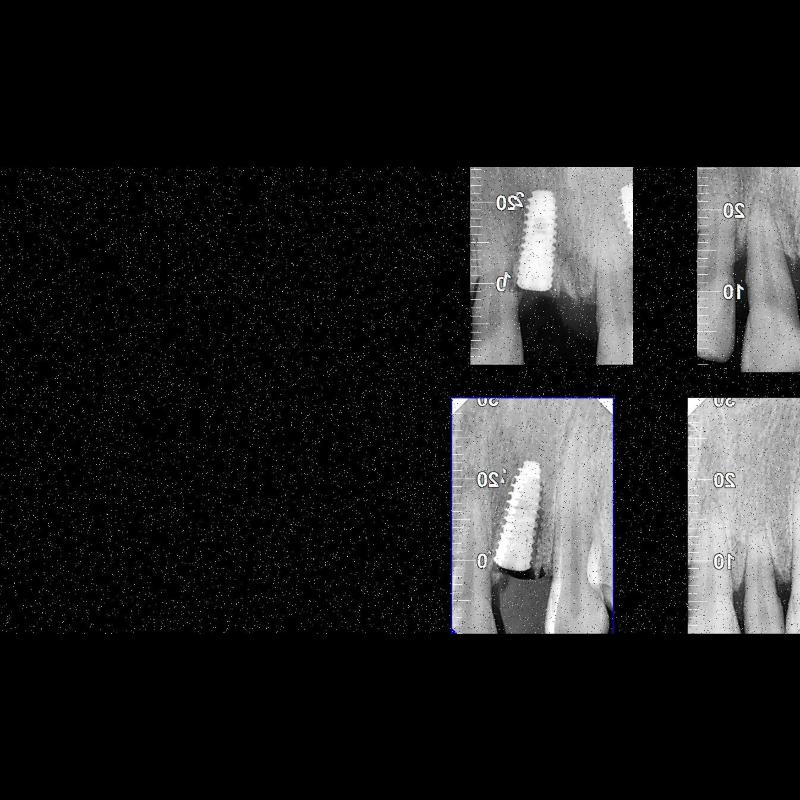osstem: (490, 456, 554, 578), (506, 183, 572, 296)
